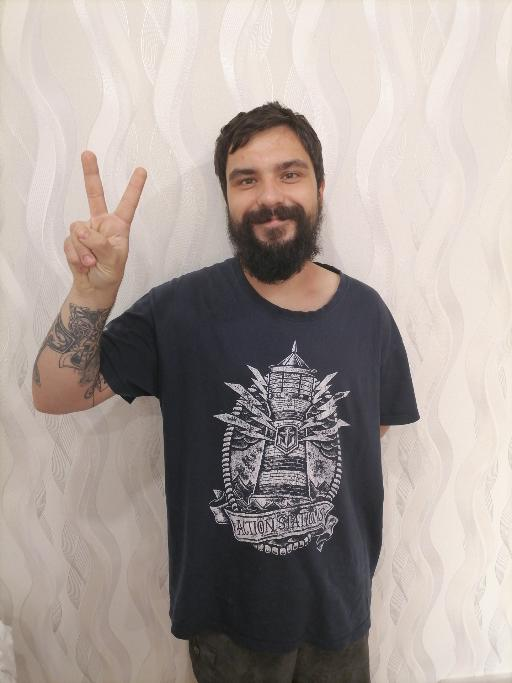peace: (61, 148, 148, 296)
